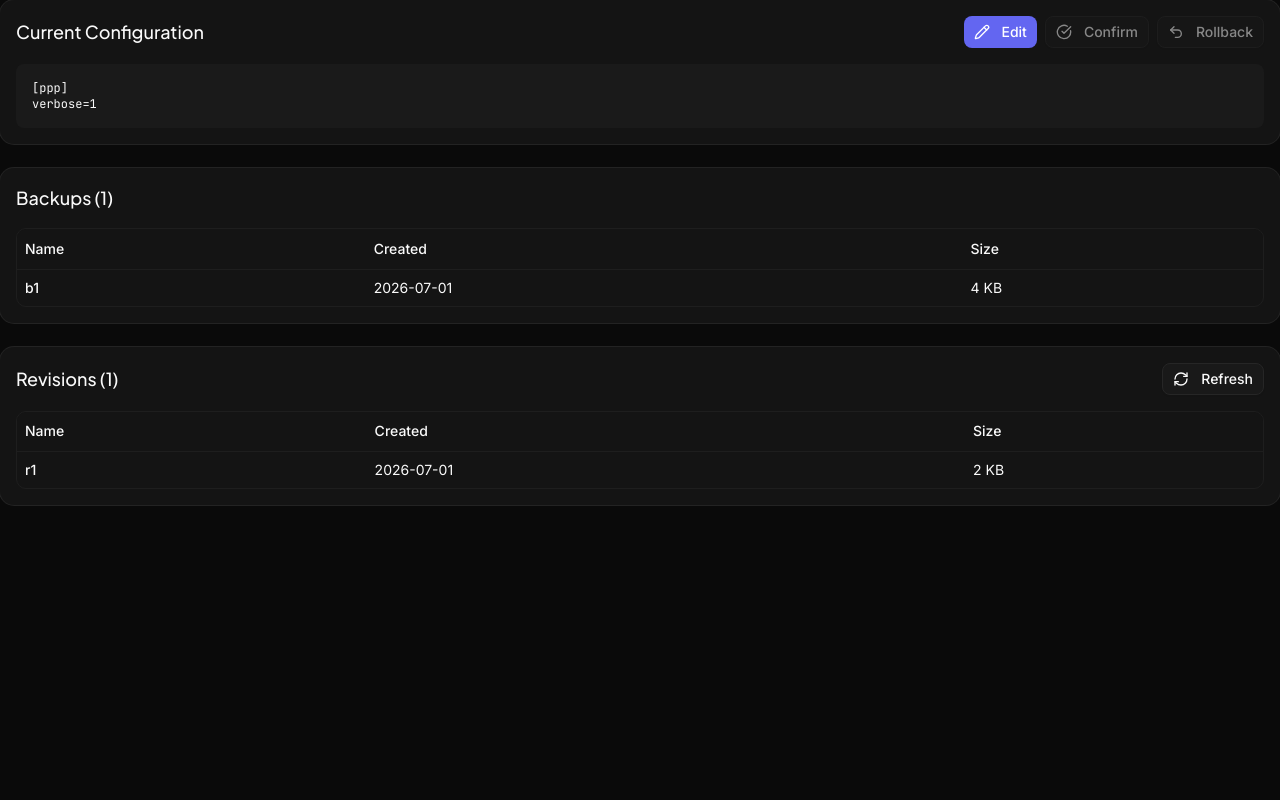
ConfigPage › shows Saving… while apply is pending
Click the button "Edit" at (1000, 32), box 964,16 -> 1037,48
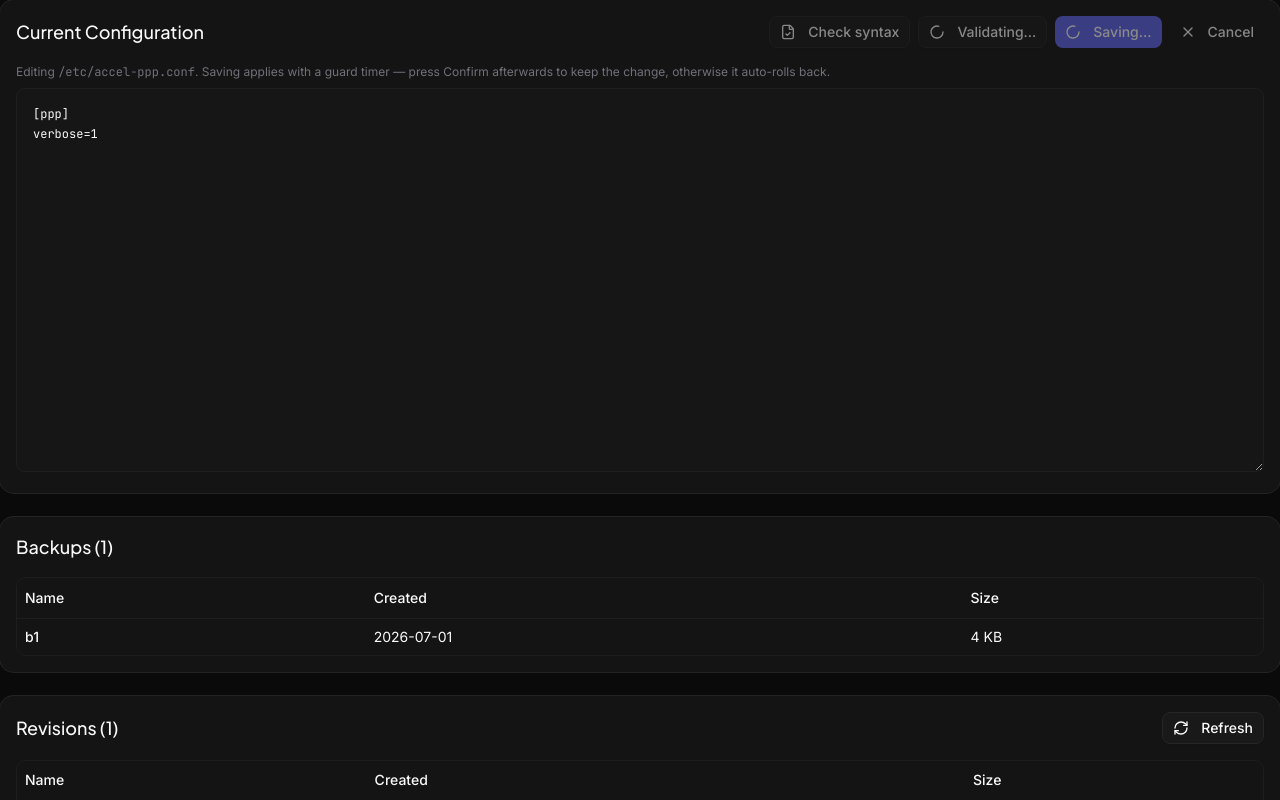
Now the button "Saving…" is shown, box 1055,16 -> 1162,48
